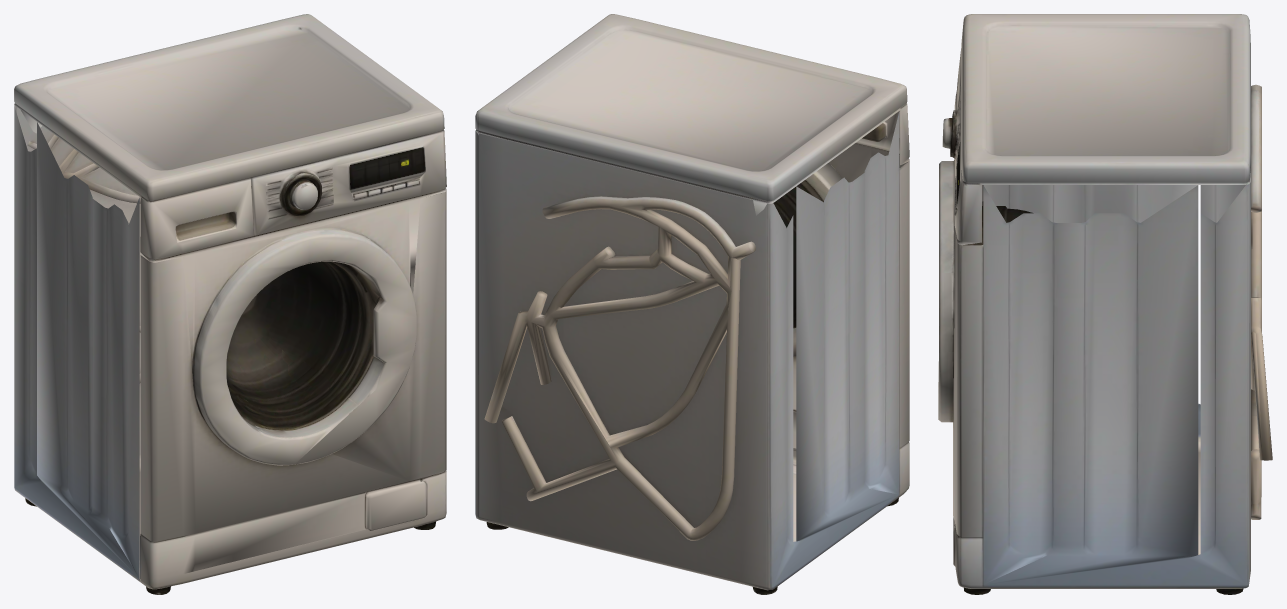
Rendered from a_washing_machine_86e83a95_v1.glb.
3 renders of one model, left to right at view 1: azimuth 30°, elevation 25°; view 2: azimuth 150°, elevation 25°; view 3: azimuth 270°, elevation 25°, orthographic. The views are drawn at different scales.
Visible parts, largest first — view 1: material; view 2: material; view 3: material.
Boxes of the visible parts, x1=… form: material: x1=14, y1=14, x2=446, y2=594; material: x1=475, y1=14, x2=909, y2=594; material: x1=938, y1=14, x2=1272, y2=594.
Bounding box in the file's own units: 1.42 × 1.9 × 1.33.
Materials: 1 (1 with a texture image).
